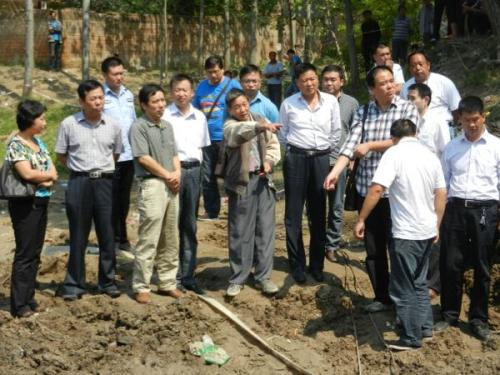boots: (385, 338, 422, 351), (254, 279, 279, 294), (471, 320, 490, 339), (55, 287, 79, 300), (99, 282, 121, 296), (364, 300, 391, 311), (225, 282, 244, 296), (158, 287, 184, 297), (182, 282, 205, 293), (13, 309, 37, 318), (292, 268, 306, 283), (133, 291, 151, 302), (28, 300, 46, 311), (310, 267, 324, 281), (196, 213, 218, 221), (325, 248, 338, 261)
person: (324, 64, 420, 313), (353, 117, 448, 350), (434, 94, 500, 340), (53, 79, 124, 301), (278, 62, 341, 282), (217, 89, 283, 297), (1, 99, 59, 318), (128, 83, 185, 303), (161, 73, 212, 295), (406, 82, 451, 298), (191, 54, 244, 221), (320, 64, 360, 262), (98, 55, 137, 256), (366, 42, 405, 95)
